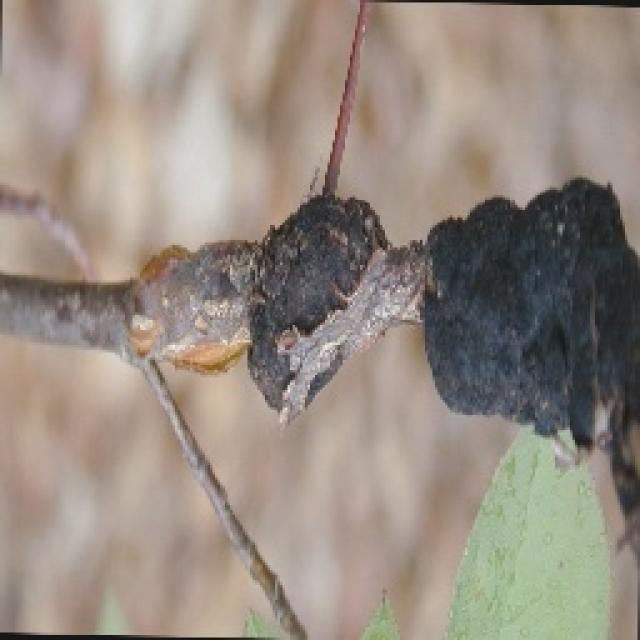Black_knot: (418, 172, 638, 450), (242, 188, 390, 412)
